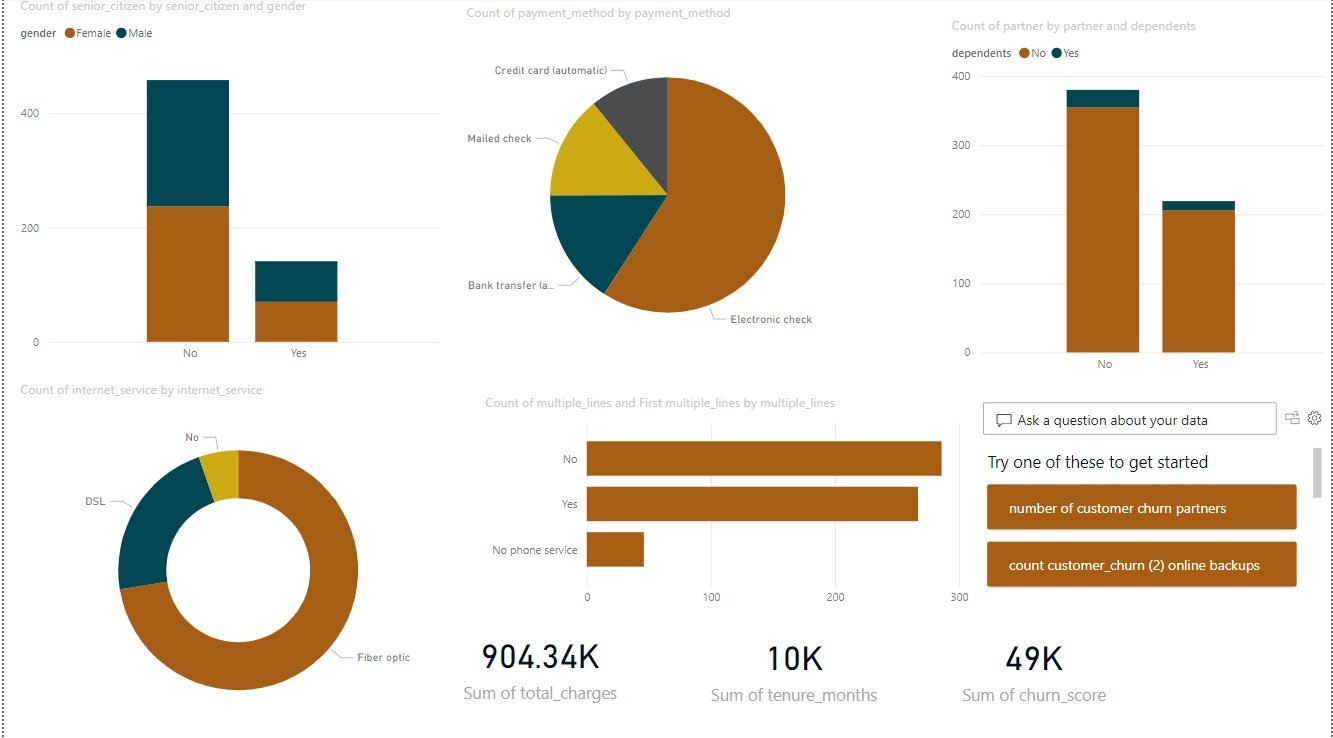

The page's visual inventory and layout, read from the dashboard file:
{"tool":"powerbi","page":{"name":"Page 1","canvas":[1280,720],"ordinal":0},"visuals":[{"type":"columnChart","fields":{"Category":["customer_churn.senior_citizen"],"Y":["CountNonNull(customer_churn.senior_citizen)"],"Series":["customer_churn.gender"]},"box":[10.3,0,414.6,360.4],"z":0},{"type":"columnChart","fields":{"Category":["customer_churn.partner"],"Y":["CountNonNull(customer_churn.partner)"],"Series":["customer_churn.dependents"]},"box":[909.8,19.2,370.5,351.3],"z":1000},{"type":"pieChart","fields":{"Category":["customer_churn.payment_method"],"Y":["CountNonNull(customer_churn.payment_method)"]},"box":[440.9,5.9,398.4,354.5],"z":2000},{"type":"donutChart","fields":{"Category":["customer_churn.internet_service"],"Y":["CountNonNull(customer_churn.internet_service)"]},"box":[10.3,370.6,430.7,350.1],"z":3000},{"type":"card","fields":{"Values":["Sum(customer_churn.tenure_months)"]},"box":[628.4,584.5,268.1,123],"z":4000},{"type":"card","fields":{"Values":["Sum(customer_churn.total_charges)"]},"box":[366.2,584.5,301.8,118.7],"z":5000},{"type":"card","fields":{"Values":["Sum(customer_churn.churn_score)"]},"box":[873.1,584.5,241.7,123],"z":6000},{"type":"barChart","fields":{"Category":["customer_churn.multiple_lines"],"Y":["CountNonNull(customer_churn.multiple_lines)"]},"box":[460,382.3,476.1,213.9],"z":7000},{"type":"qnaVisual","box":[936,382,344,202],"z":8000}]}

Visuals, with their boxes in screenshot pixels (x1, y1, x2, y2), scaled from the page's 1280x720 canvas onto the 1333x738 screenshot:
columnChart - customer_churn.senior_citizen x CountNonNull(customer_churn.senior_citizen): detection(11, 0, 442, 369)
columnChart - customer_churn.partner x CountNonNull(customer_churn.partner): detection(947, 20, 1332, 380)
pieChart - customer_churn.payment_method x CountNonNull(customer_churn.payment_method): detection(459, 6, 874, 369)
donutChart - customer_churn.internet_service x CountNonNull(customer_churn.internet_service): detection(11, 380, 459, 737)
card - Sum(customer_churn.tenure_months): detection(654, 599, 934, 725)
card - Sum(customer_churn.total_charges): detection(381, 599, 696, 721)
card - Sum(customer_churn.churn_score): detection(909, 599, 1161, 725)
barChart - customer_churn.multiple_lines x CountNonNull(customer_churn.multiple_lines): detection(479, 392, 975, 611)
qnaVisual: detection(975, 392, 1332, 599)
